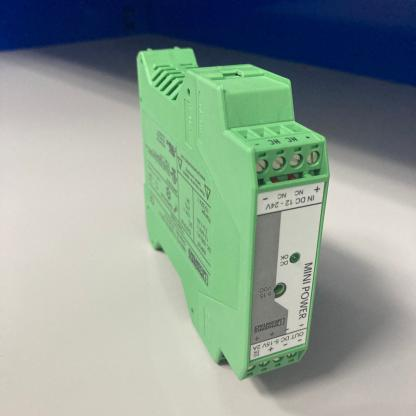SP0000011: (95, 22, 388, 411)
